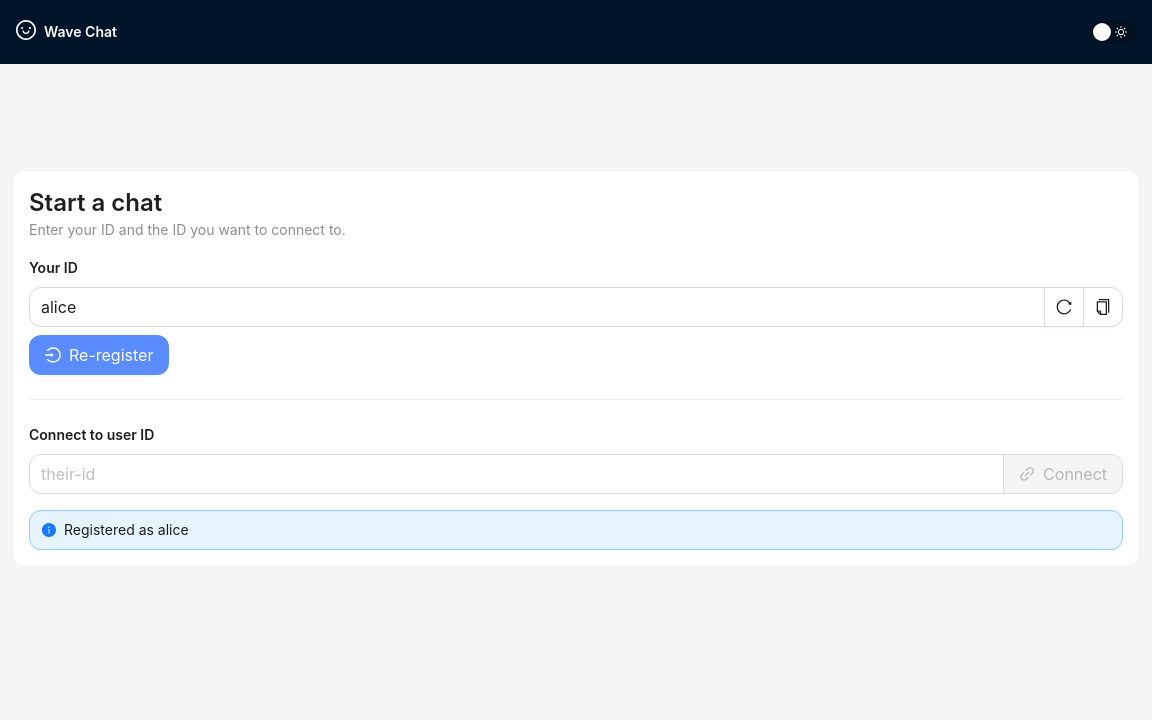
Test: pages/Home › connects to target and shows "Invite sent" on success
Expected: the text "Registered as alice" is shown, x1=64 y1=520 x2=189 y2=538
In the field named "Connect to user ID": (517, 474) x1=29 y1=454 x2=1004 y2=494, type "bob"
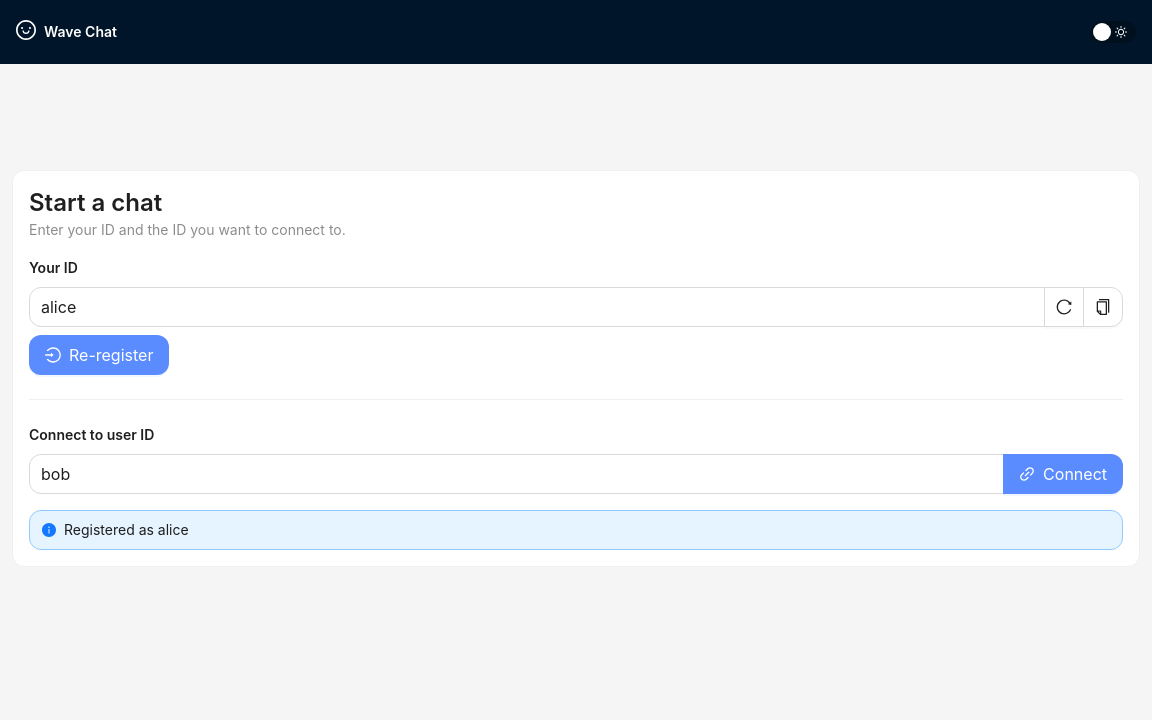
Now the button "Connect" is enabled
Click the button "Connect": (1063, 474) x1=1003 y1=454 x2=1123 y2=494
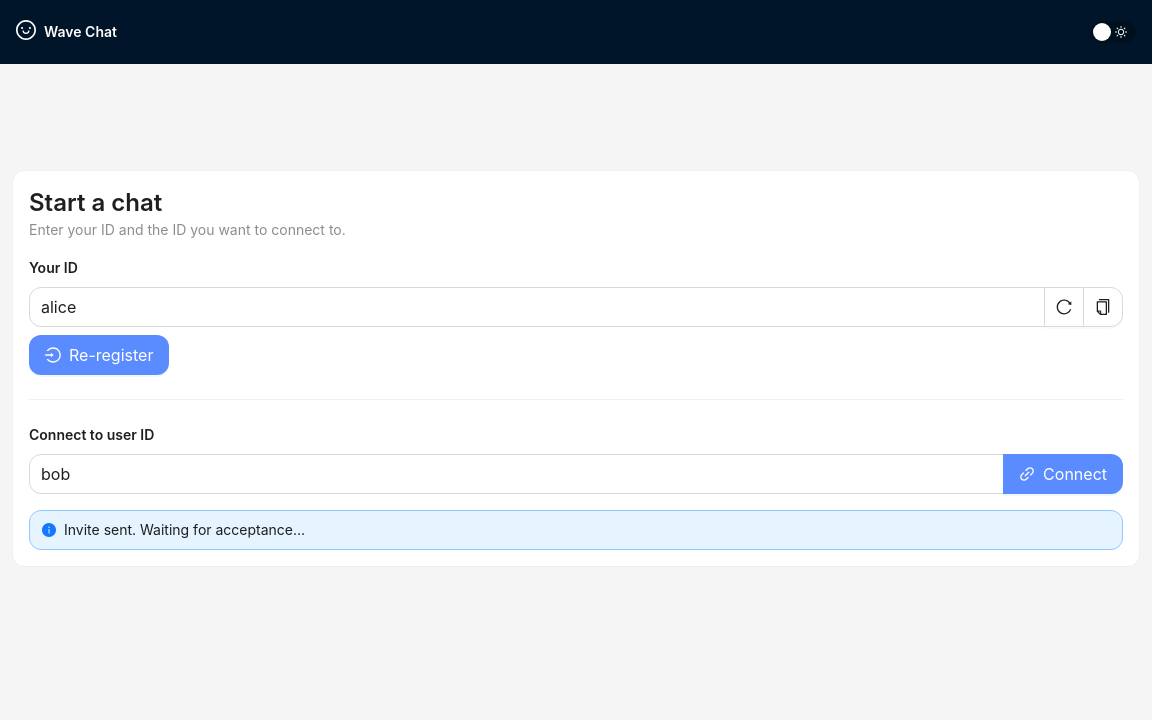
Now the text "Invite sent. Waiting for acceptance…" is shown, box x1=64 y1=520 x2=305 y2=538
